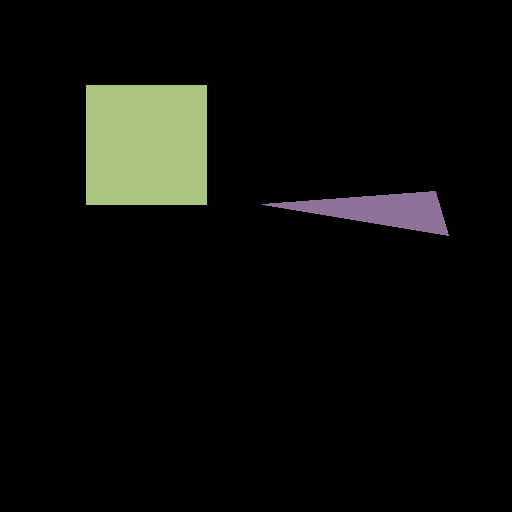square: (86, 85, 206, 204)
triangle: (262, 191, 448, 235)
